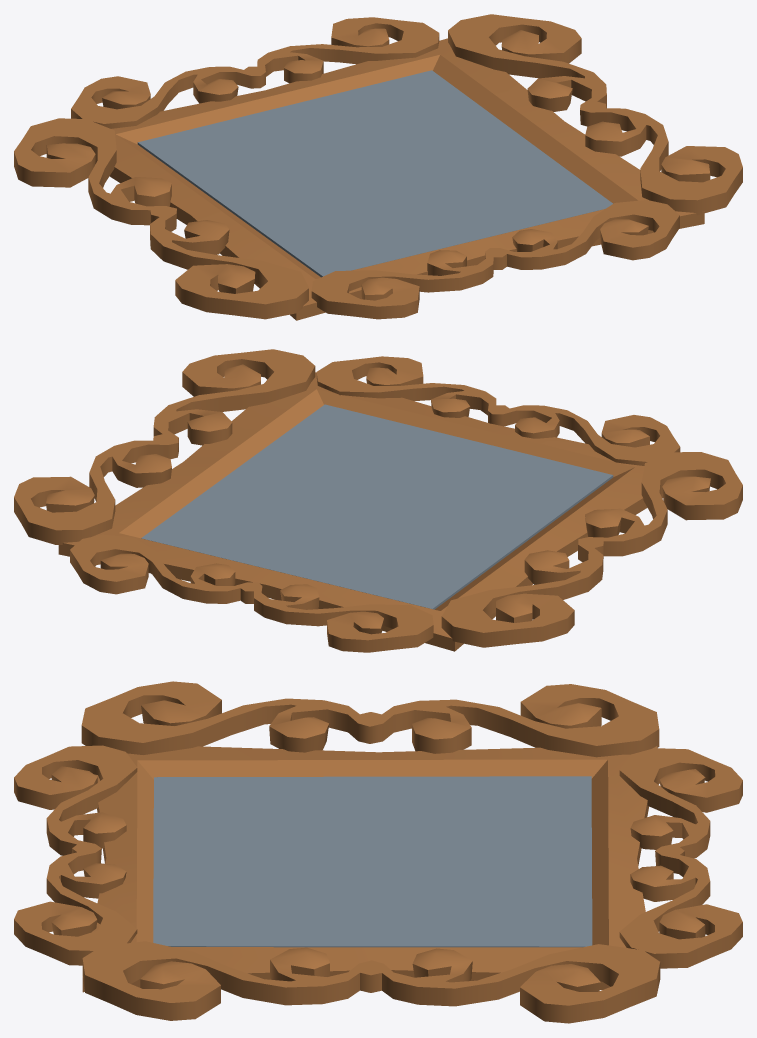
Rendered from Minijuego_Sergi (1).fbx.
3 views of the same model, one above another, from view 1: azimuth 30°, elevation 25°; view 2: azimuth 150°, elevation 25°; view 3: azimuth 270°, elevation 25° (orthographic). The views are drawn at different scales.
Visible parts, largest first — view 1: Marco, Adorno_03, Adorno_04, Adorno_02, Adorno_01, Trozo_08, Trozo_02, Trozo_06, Trozo_01, Trozo_05, Trozo_03, Trozo_04 (+2 smaller); view 2: Marco, Adorno_03, Adorno_04, Adorno_01, Adorno_02, Trozo_08, Trozo_02, Trozo_06, Trozo_01, Trozo_05, Trozo_03, Trozo_04 (+2 smaller); view 3: Marco, Adorno_04, Adorno_03, Adorno_01, Adorno_02, Trozo_08, Trozo_02, Trozo_01, Trozo_06, Trozo_05, Trozo_04, Trozo_03 (+2 smaller).
Boxes of the visible parts, x1=… form: Marco: x1=95, y1=38, x2=704, y2=320; Adorno_03: x1=14, y1=118, x2=308, y2=319; Adorno_04: x1=448, y1=14, x2=742, y2=215; Adorno_02: x1=311, y1=200, x2=679, y2=319; Adorno_01: x1=71, y1=17, x2=439, y2=128; Trozo_08: x1=213, y1=82, x2=386, y2=165; Trozo_02: x1=337, y1=178, x2=537, y2=258; Trozo_06: x1=199, y1=158, x2=342, y2=232; Trozo_01: x1=458, y1=159, x2=612, y2=224; Trozo_05: x1=317, y1=141, x2=471, y2=211; Trozo_03: x1=259, y1=211, x2=397, y2=277; Trozo_04: x1=383, y1=115, x2=551, y2=178; Marco: x1=58, y1=372, x2=663, y2=651; Adorno_03: x1=441, y1=452, x2=742, y2=647; Adorno_04: x1=14, y1=349, x2=315, y2=544; Adorno_01: x1=70, y1=534, x2=433, y2=652; Adorno_02: x1=316, y1=356, x2=680, y2=465; Trozo_08: x1=188, y1=519, x2=408, y2=590; Trozo_02: x1=341, y1=423, x2=539, y2=502; Trozo_06: x1=375, y1=503, x2=550, y2=566; Trozo_01: x1=261, y1=404, x2=401, y2=470; Trozo_05: x1=307, y1=470, x2=473, y2=536; Trozo_03: x1=467, y1=457, x2=613, y2=523; Trozo_04: x1=202, y1=451, x2=339, y2=519; Marco: x1=82, y1=746, x2=657, y2=992; Adorno_04: x1=82, y1=941, x2=660, y2=1023; Adorno_03: x1=81, y1=681, x2=659, y2=757; Adorno_01: x1=619, y1=748, x2=742, y2=968; Adorno_02: x1=14, y1=745, x2=137, y2=965; Trozo_08: x1=447, y1=810, x2=592, y2=918; Trozo_02: x1=153, y1=816, x2=305, y2=900; Trozo_01: x1=153, y1=883, x2=305, y2=947; Trozo_06: x1=306, y1=776, x2=447, y2=844; Trozo_05: x1=306, y1=822, x2=447, y2=902; Trozo_04: x1=306, y1=877, x2=447, y2=947; Trozo_03: x1=153, y1=777, x2=305, y2=839.
Bounding box in the file's own units: 50.46 × 2.8 × 47.99.
